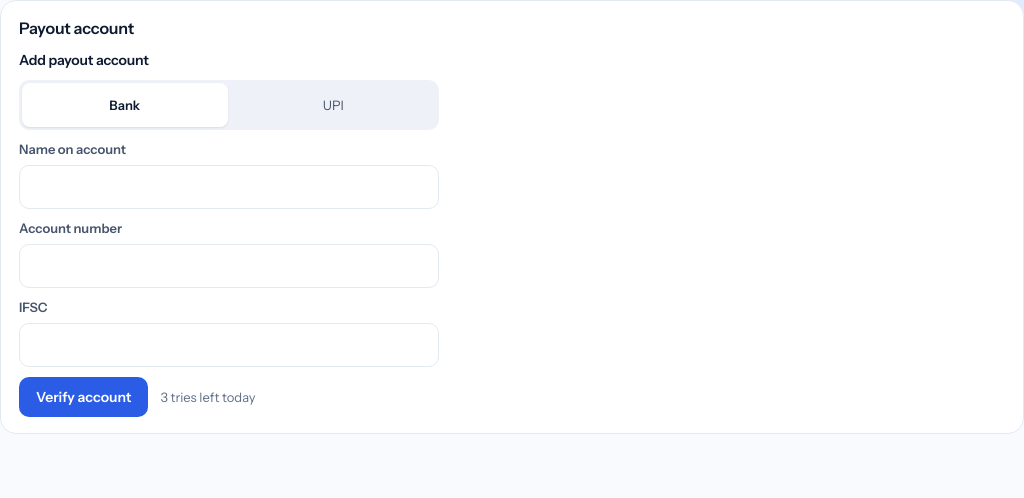
validates IFSC and account number before sending
Type "Asha Rao" into the field labelled "Name on account" at [229, 187], box [19, 165, 439, 209]
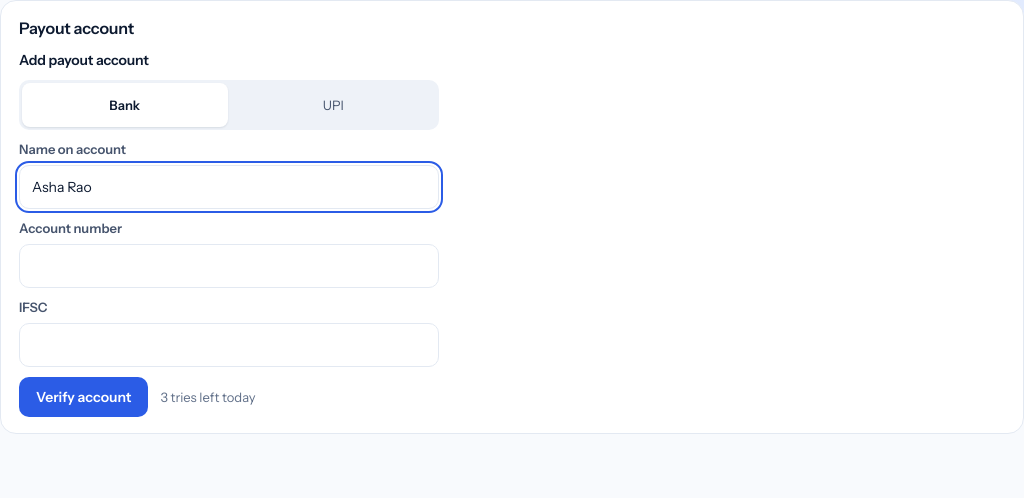
Type "12" into the field labelled "Account number" at [229, 266], box [19, 244, 439, 288]
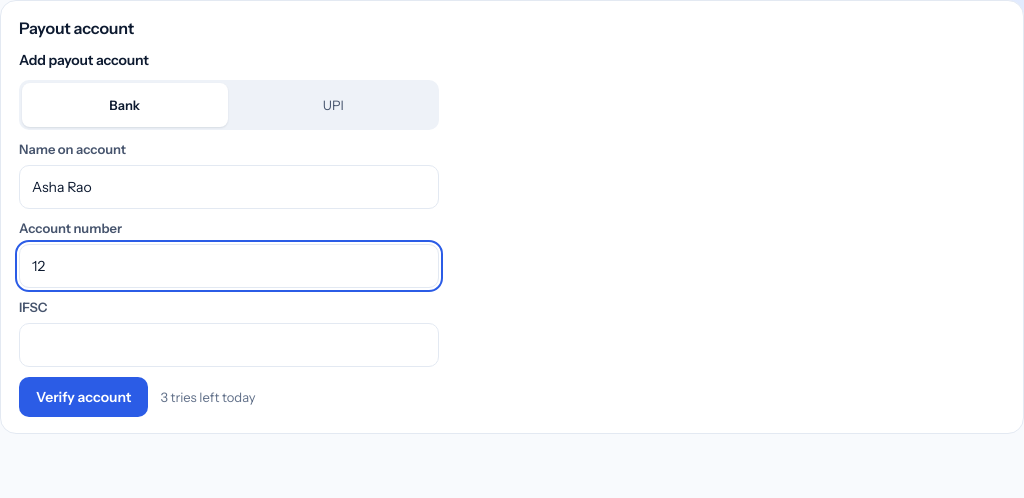
Type "BAD" into the field labelled "IFSC" at [229, 345], box [19, 323, 439, 367]
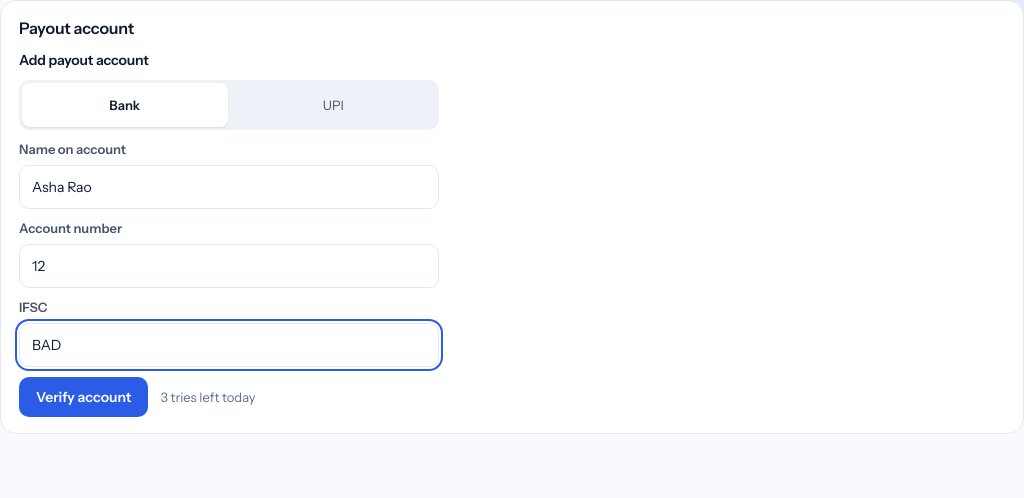
Click the button "Verify account" at [84, 397], box [19, 377, 148, 417]
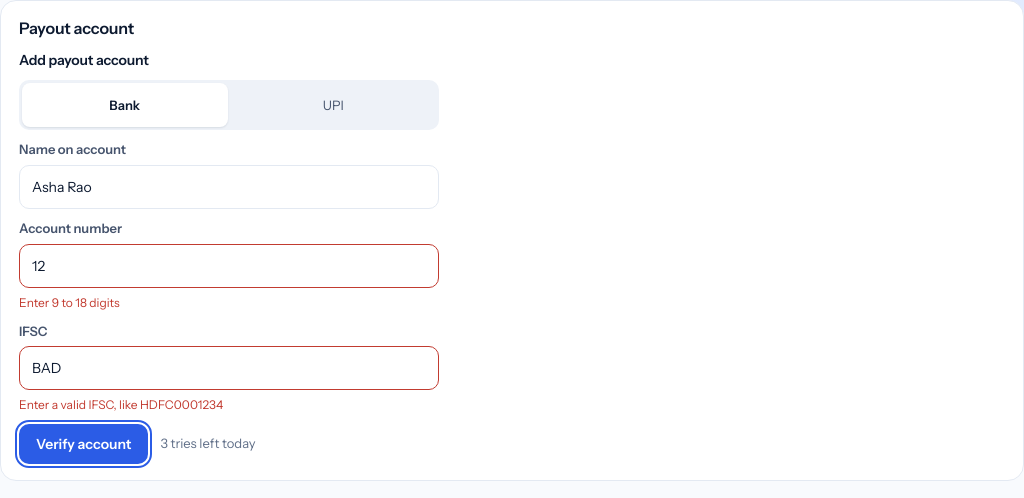
Expected: the text "Enter a valid IFSC, like HDFC0001234" is shown, [19, 397, 223, 412]
Expected: the text "Enter 9 to 18 digits" is shown, [19, 295, 120, 310]
